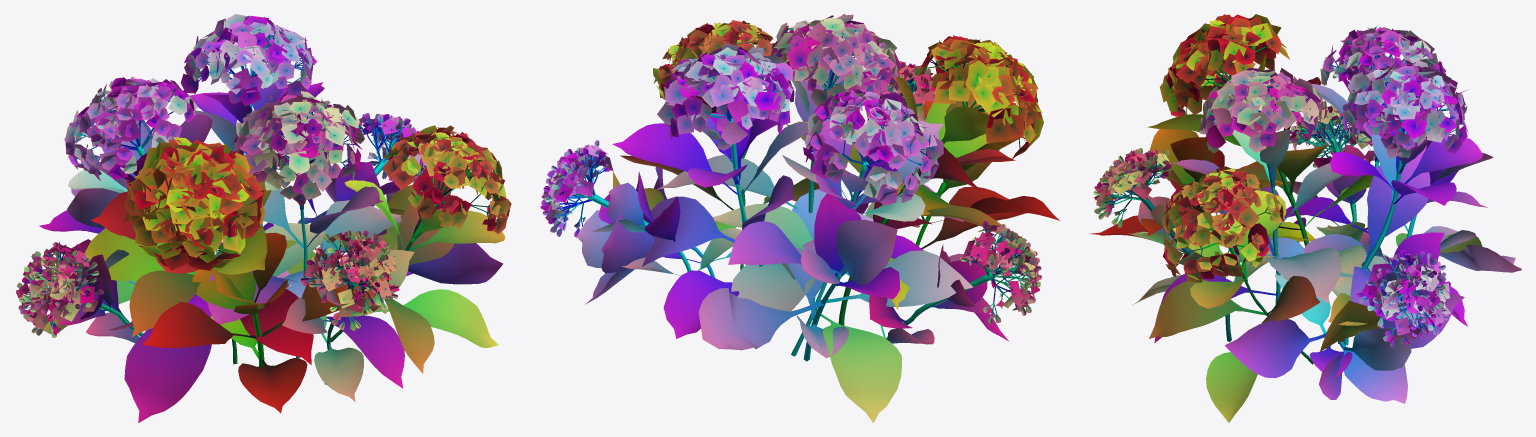
The model's file is Bigleaf_Hydrangea_vgztealha_Mid_vgztealha_VarH_LOD0.fbx.
The picture shows the model from 3 angles, left to right: view 1: azimuth 30°, elevation 25°; view 2: azimuth 150°, elevation 25°; view 3: azimuth 270°, elevation 25°; orthographic projection. The views are drawn at different scales.
Visible parts, largest first — view 1: _mhd9_VarH_LOD1; view 2: _mhd9_VarH_LOD1; view 3: _mhd9_VarH_LOD1.
Boxes of the visible parts, left/top/right/bottom form: _mhd9_VarH_LOD1: left=16, top=14, right=511, bottom=422; _mhd9_VarH_LOD1: left=540, top=14, right=1059, bottom=422; _mhd9_VarH_LOD1: left=1089, top=14, right=1521, bottom=422.
Bounding box in the file's own units: 54.42 × 35.77 × 48.18.
